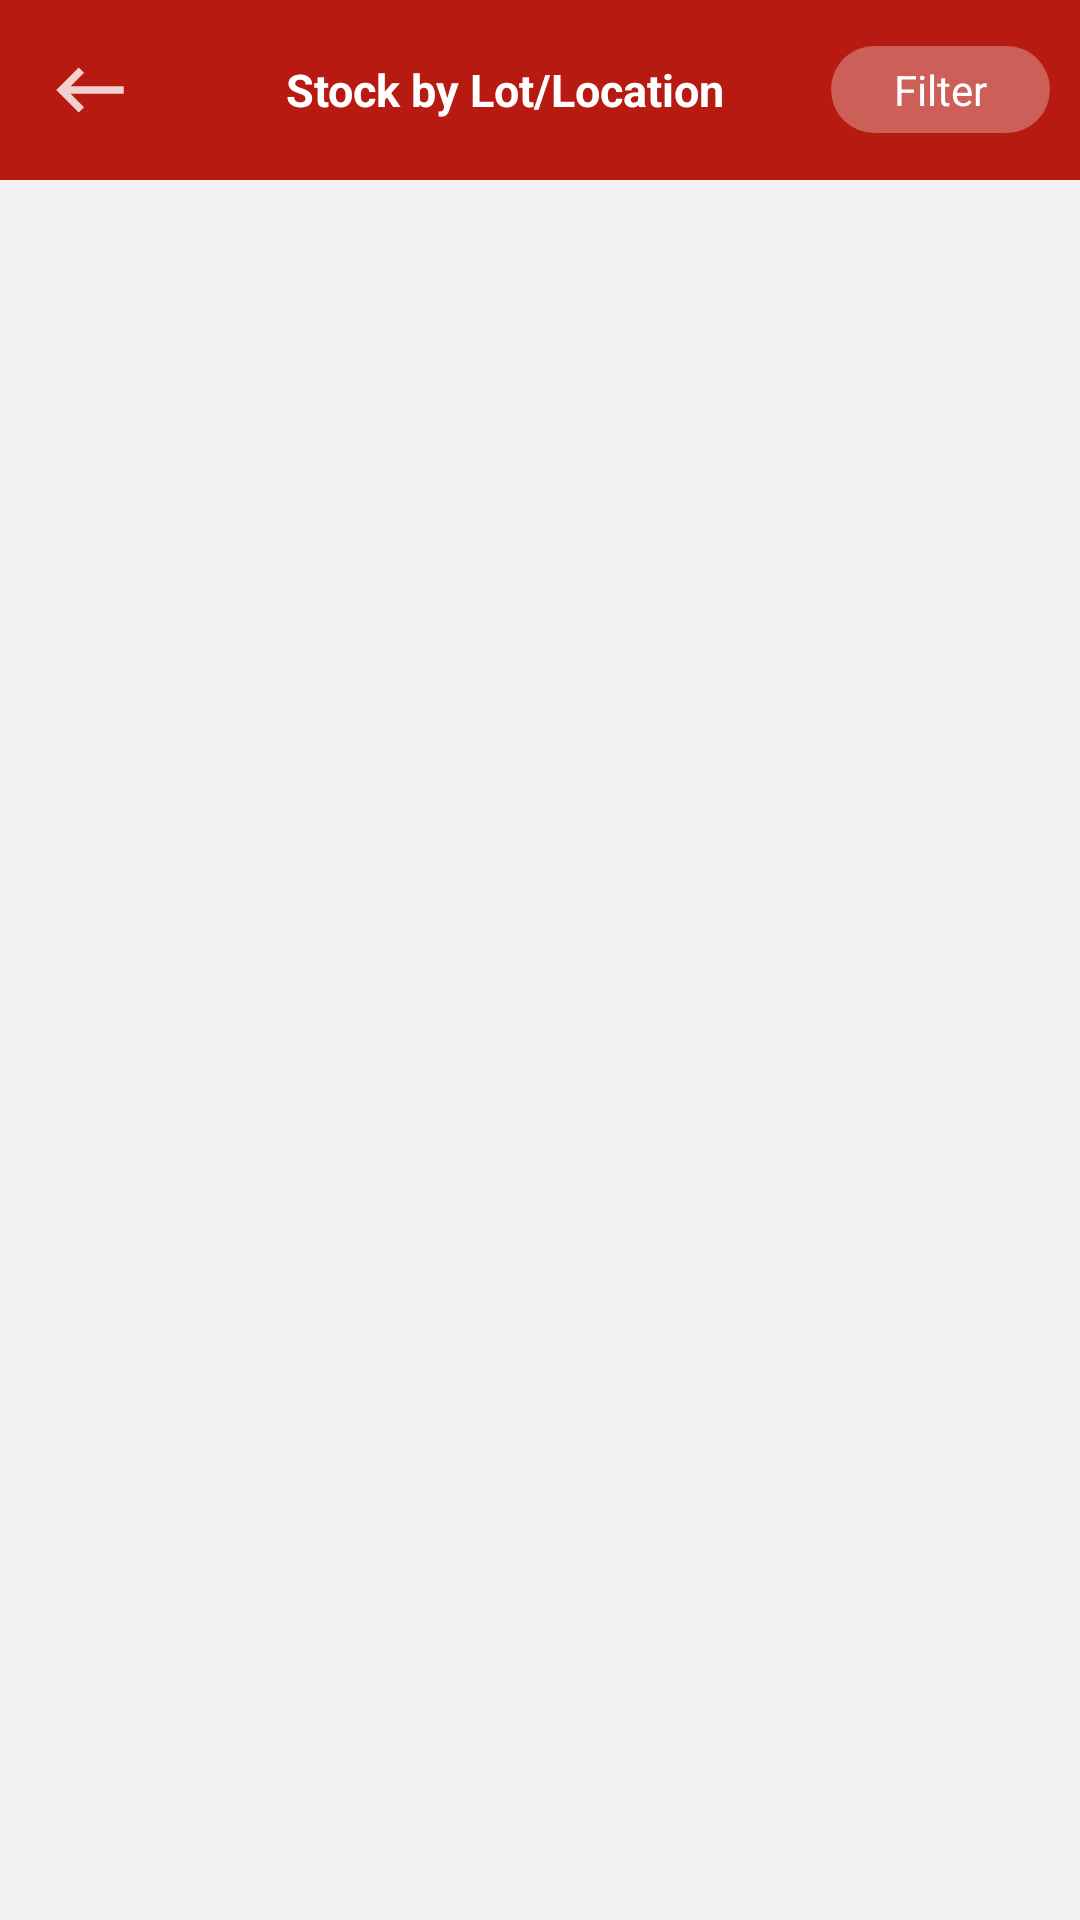

Named icons in this screenshot (1080 × 1920) and their centers, [x,y]:
back arrow: [90,90]
